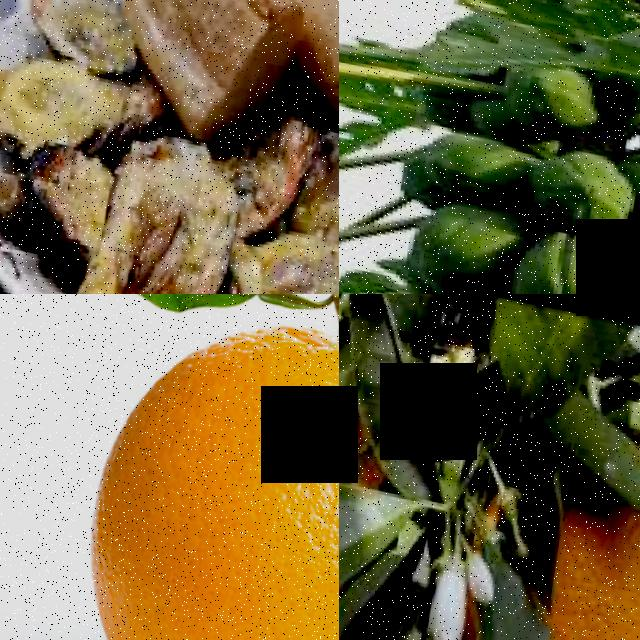orange: (51, 294, 339, 640), (530, 411, 640, 640)
oysters: (84, 119, 252, 294), (221, 203, 339, 294), (25, 0, 128, 67)
pawpaw: (407, 192, 530, 294), (528, 134, 640, 231), (420, 119, 542, 207), (513, 215, 640, 294)
